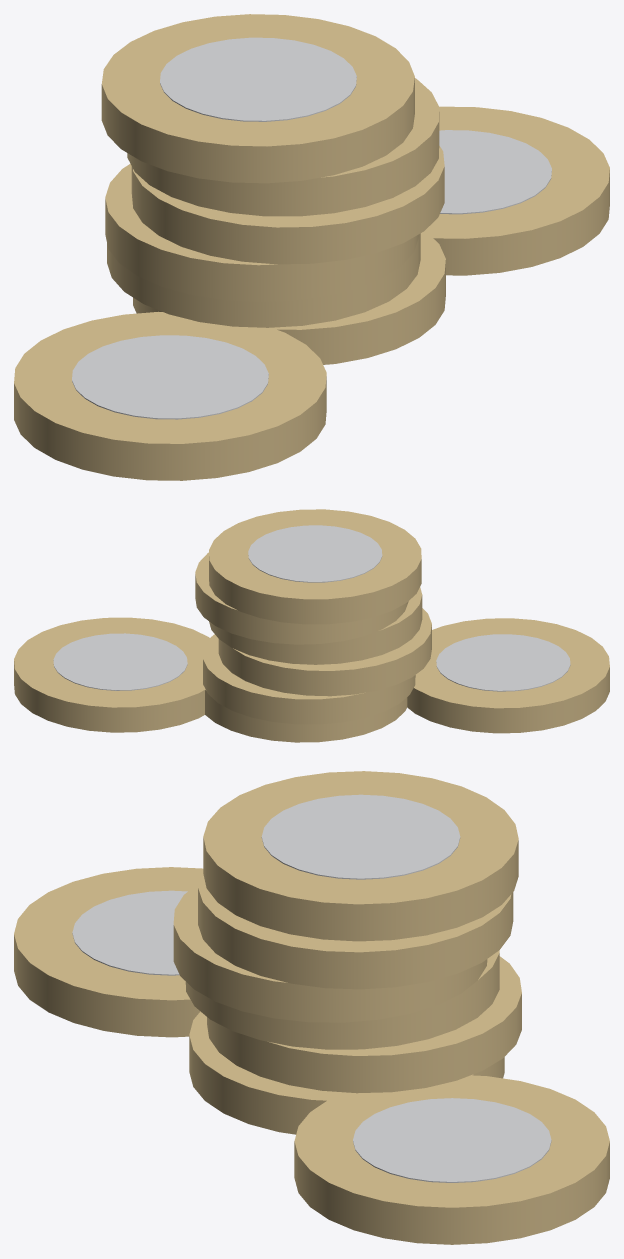
Rendered from prop-coins.glb.
The picture shows the model from 3 angles, top to bottom: view 1: azimuth 30°, elevation 25°; view 2: azimuth 150°, elevation 25°; view 3: azimuth 270°, elevation 25°; orthographic projection. The views are drawn at different scales.
Parts seen in each view (by area): view 1: coin_5, coin_loose_1, coin_loose_0, coin_3, coin_2, coin_loose_core_1, coin_core_5, coin_4, coin_1, coin_0, coin_loose_core_0; view 2: coin_5, coin_loose_0, coin_loose_1, coin_2, coin_1, coin_loose_core_0, coin_core_5, coin_loose_core_1, coin_4, coin_3, coin_0; view 3: coin_5, coin_loose_0, coin_loose_1, coin_4, coin_1, coin_core_5, coin_loose_core_0, coin_3, coin_2, coin_0, coin_loose_core_1.
Part boxes in pixels (x1,y1,x2,y2): coin_5: (101,14,414,183); coin_loose_1: (14,311,326,480); coin_loose_0: (420,106,609,275); coin_3: (131,146,444,264); coin_2: (105,163,418,301); coin_loose_core_1: (72,335,268,419); coin_core_5: (160,37,356,121); coin_4: (127,78,439,216); coin_1: (107,233,420,327); coin_0: (133,231,445,364); coin_loose_core_0: (439,130,551,214); coin_5: (209,509,421,624); coin_loose_0: (14,617,209,732); coin_loose_1: (407,618,609,733); coin_2: (218,608,431,696); coin_1: (203,634,415,724); coin_loose_core_0: (53,633,187,690); coin_core_5: (248,525,382,582); coin_loose_core_1: (436,634,570,691); coin_4: (195,552,408,644); coin_3: (209,587,422,664); coin_0: (200,658,407,742); coin_5: (203,771,518,941); coin_loose_0: (294,1075,609,1244); coin_loose_1: (14,867,203,1037); coin_4: (198,870,513,989); coin_1: (207,956,521,1093); coin_core_5: (261,794,460,879); coin_loose_core_0: (353,1098,551,1182); coin_3: (173,883,487,1022); coin_2: (185,950,499,1049); coin_0: (189,1011,504,1134); coin_loose_core_1: (72,890,187,975).
Bounding box in the file's own units: 1.38 × 0.424 × 1.02.
